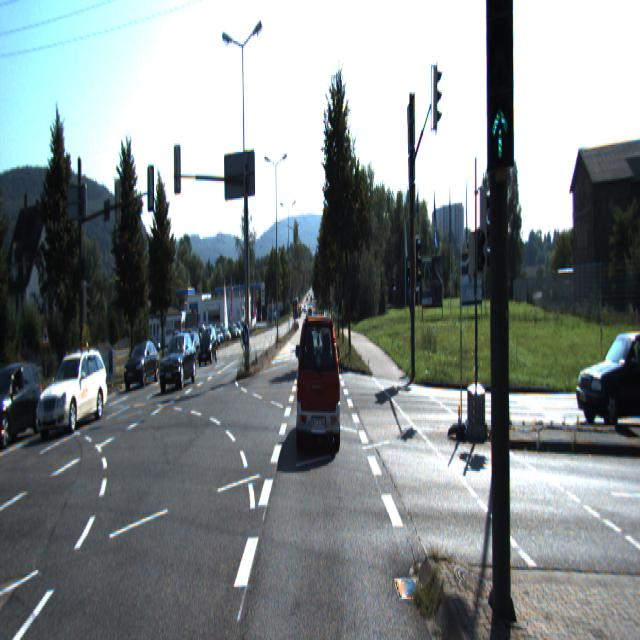Car: (574, 316, 640, 430), (296, 313, 341, 453), (38, 352, 107, 438), (0, 359, 43, 446), (158, 333, 197, 392), (124, 341, 158, 392), (197, 326, 217, 367)
